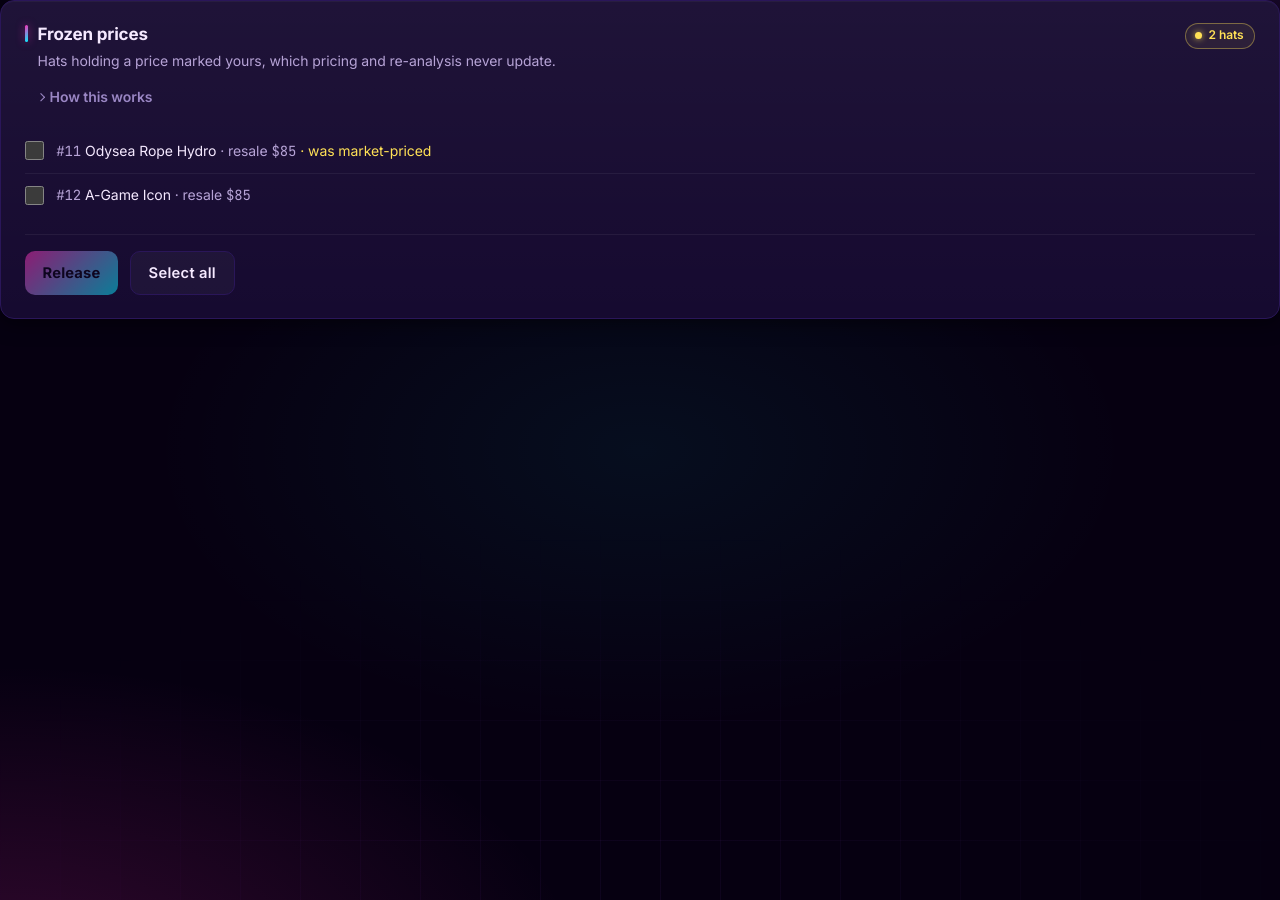
it: FrozenPricesCard › puts rows and the selection back when a release fails
Click the button "Select all": (182, 274) [130,252,234,296]
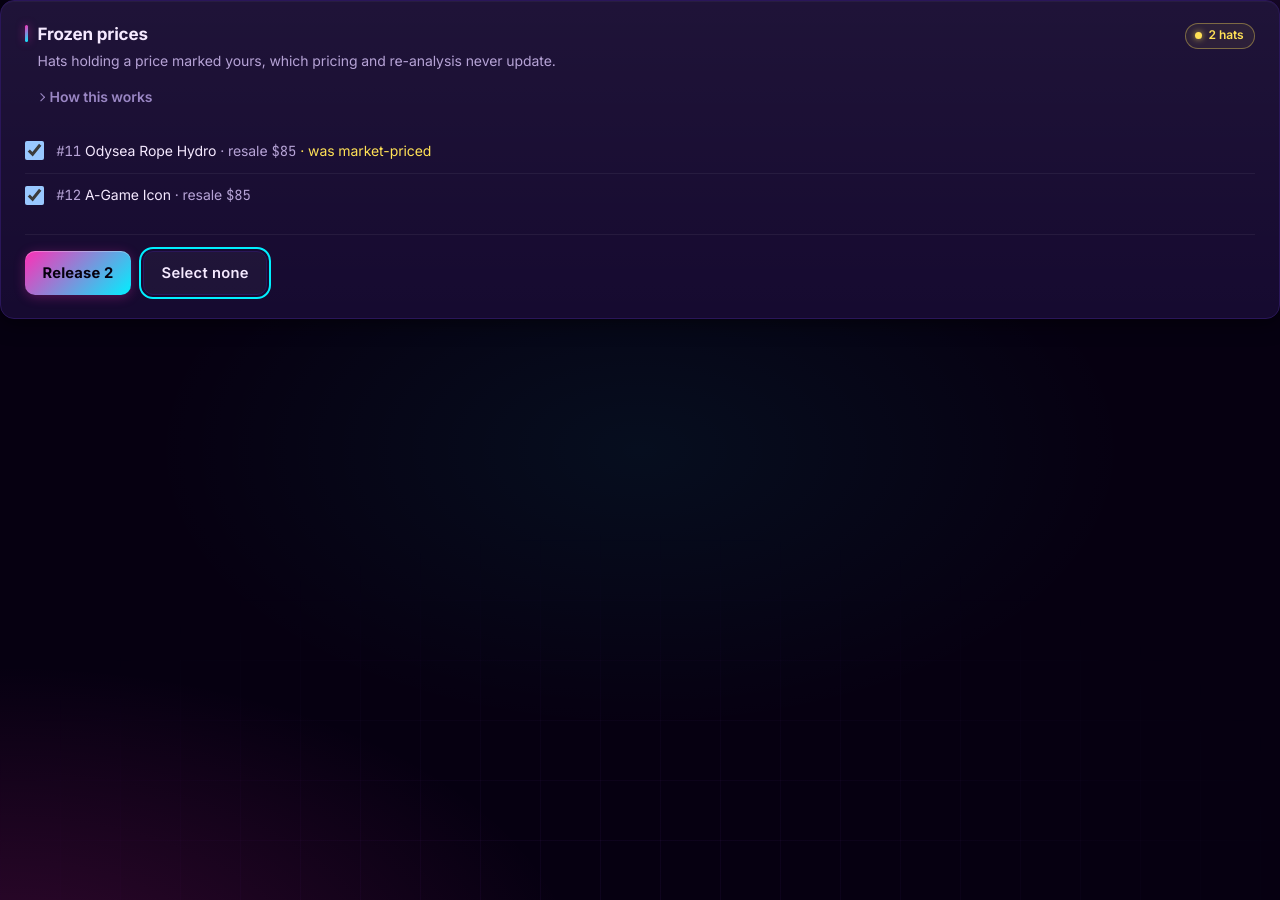
Click the button "Release 2": (78, 274) [25,252,131,296]
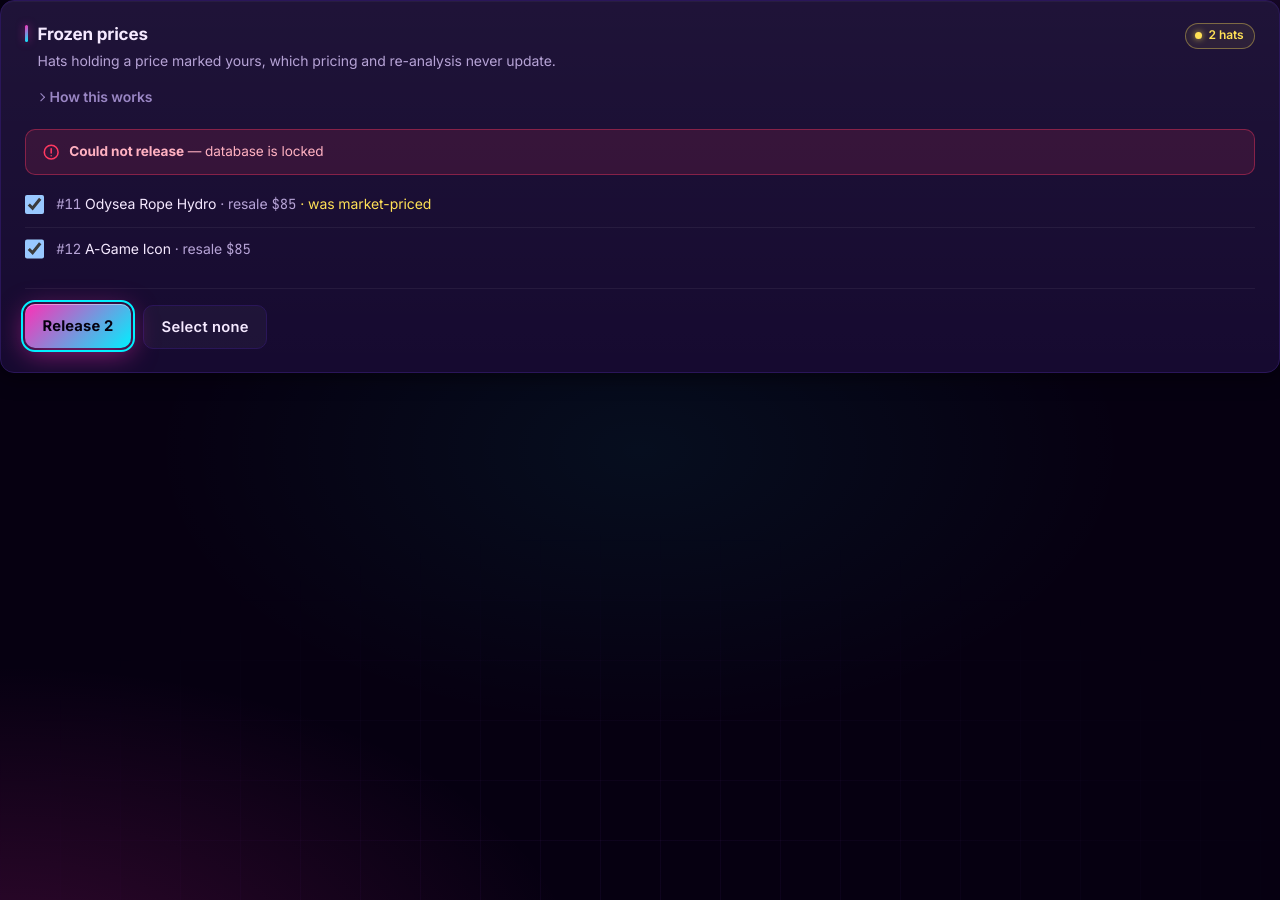
expect the checkbox named "Release hat 11" is checked: met, box [25,195,44,214]
expect the checkbox named "Release hat 12" is checked: met, box [25,240,44,259]
expect the text "Could not release — database is locked" is shown: met, box [69,142,324,162]
